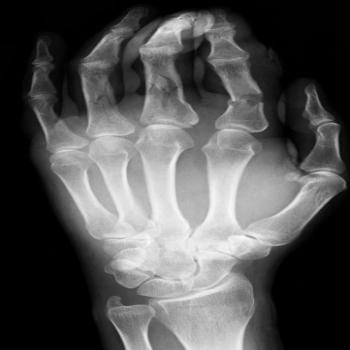Fracture: (223, 84, 276, 117), (142, 72, 191, 100), (85, 83, 125, 112)
